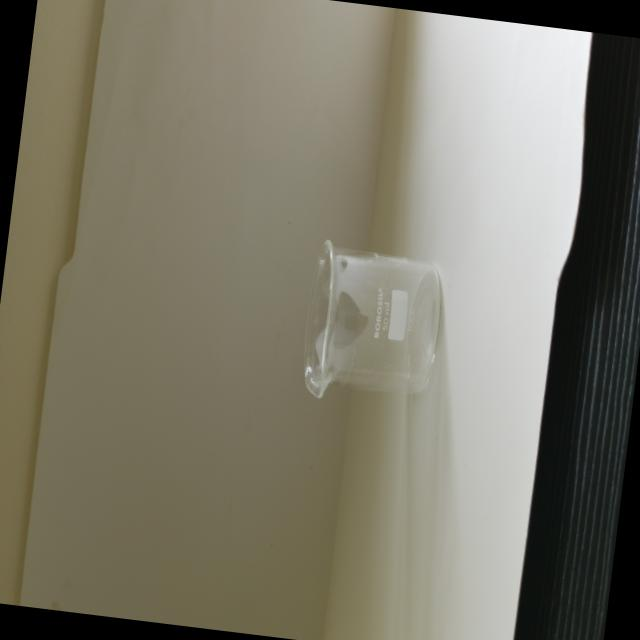beaker: (292, 229, 452, 416)
